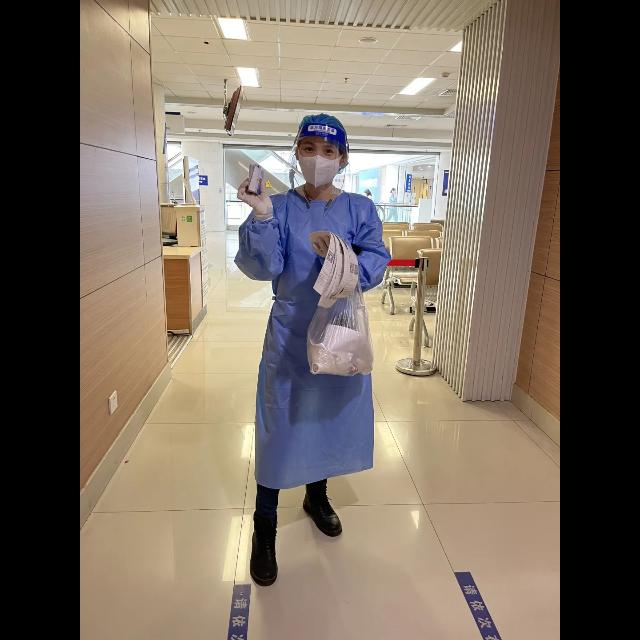masks: (296, 152, 348, 186)
